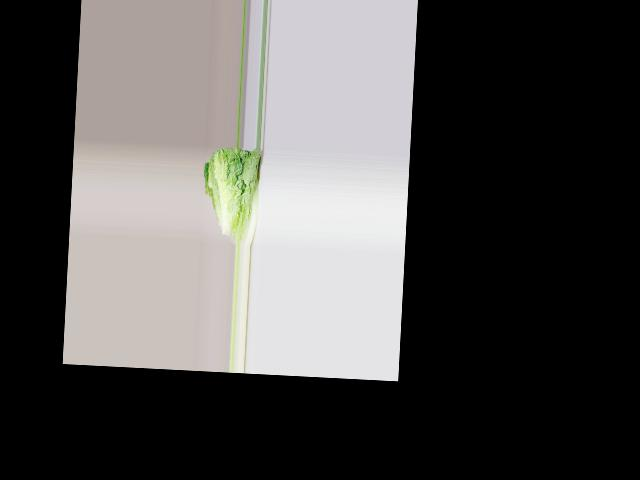lettuce: (207, 145, 263, 241)
